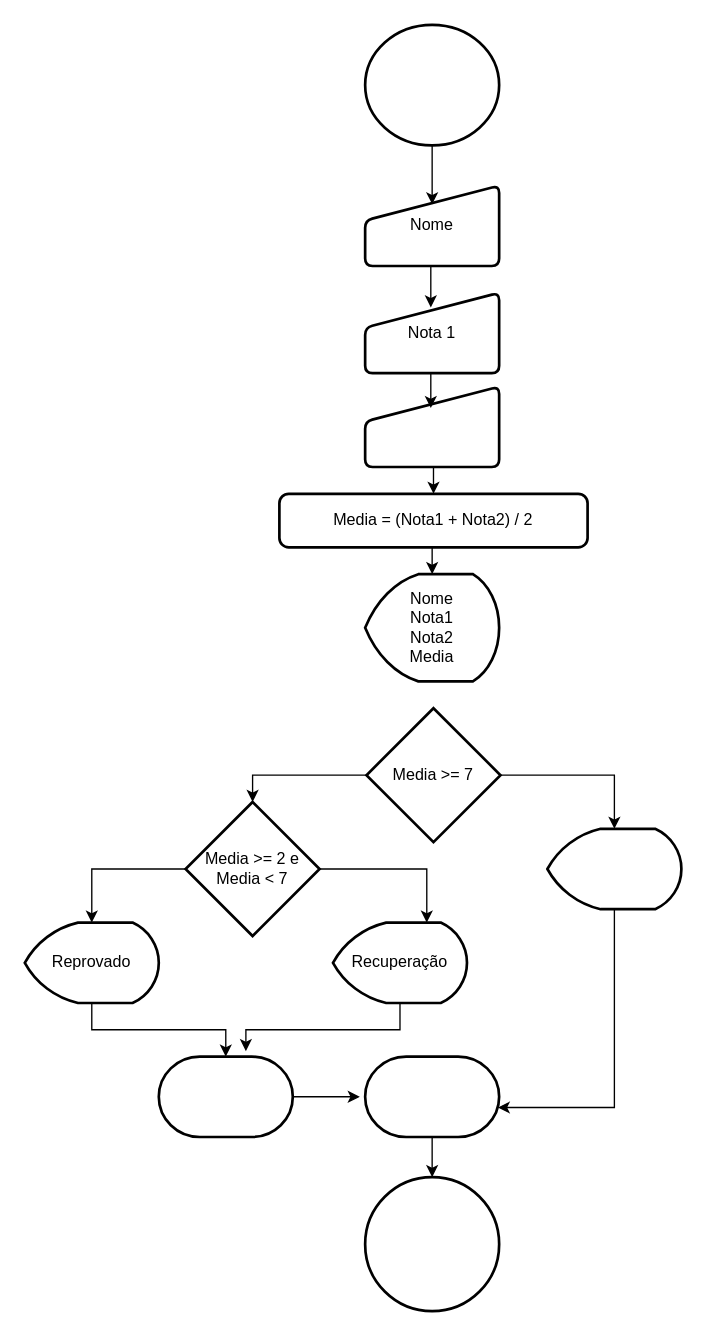
The diagram is 705 pixels wide and 1335 high, and some of its shapes have lost their labels. Here are the shapes that lost their labels. From the top down, the centre of each, then its label:
pixel 431 84: Inicio
pixel 431 426: Nota 2
pixel 613 868: Aprovado
pixel 431 1243: Fim
